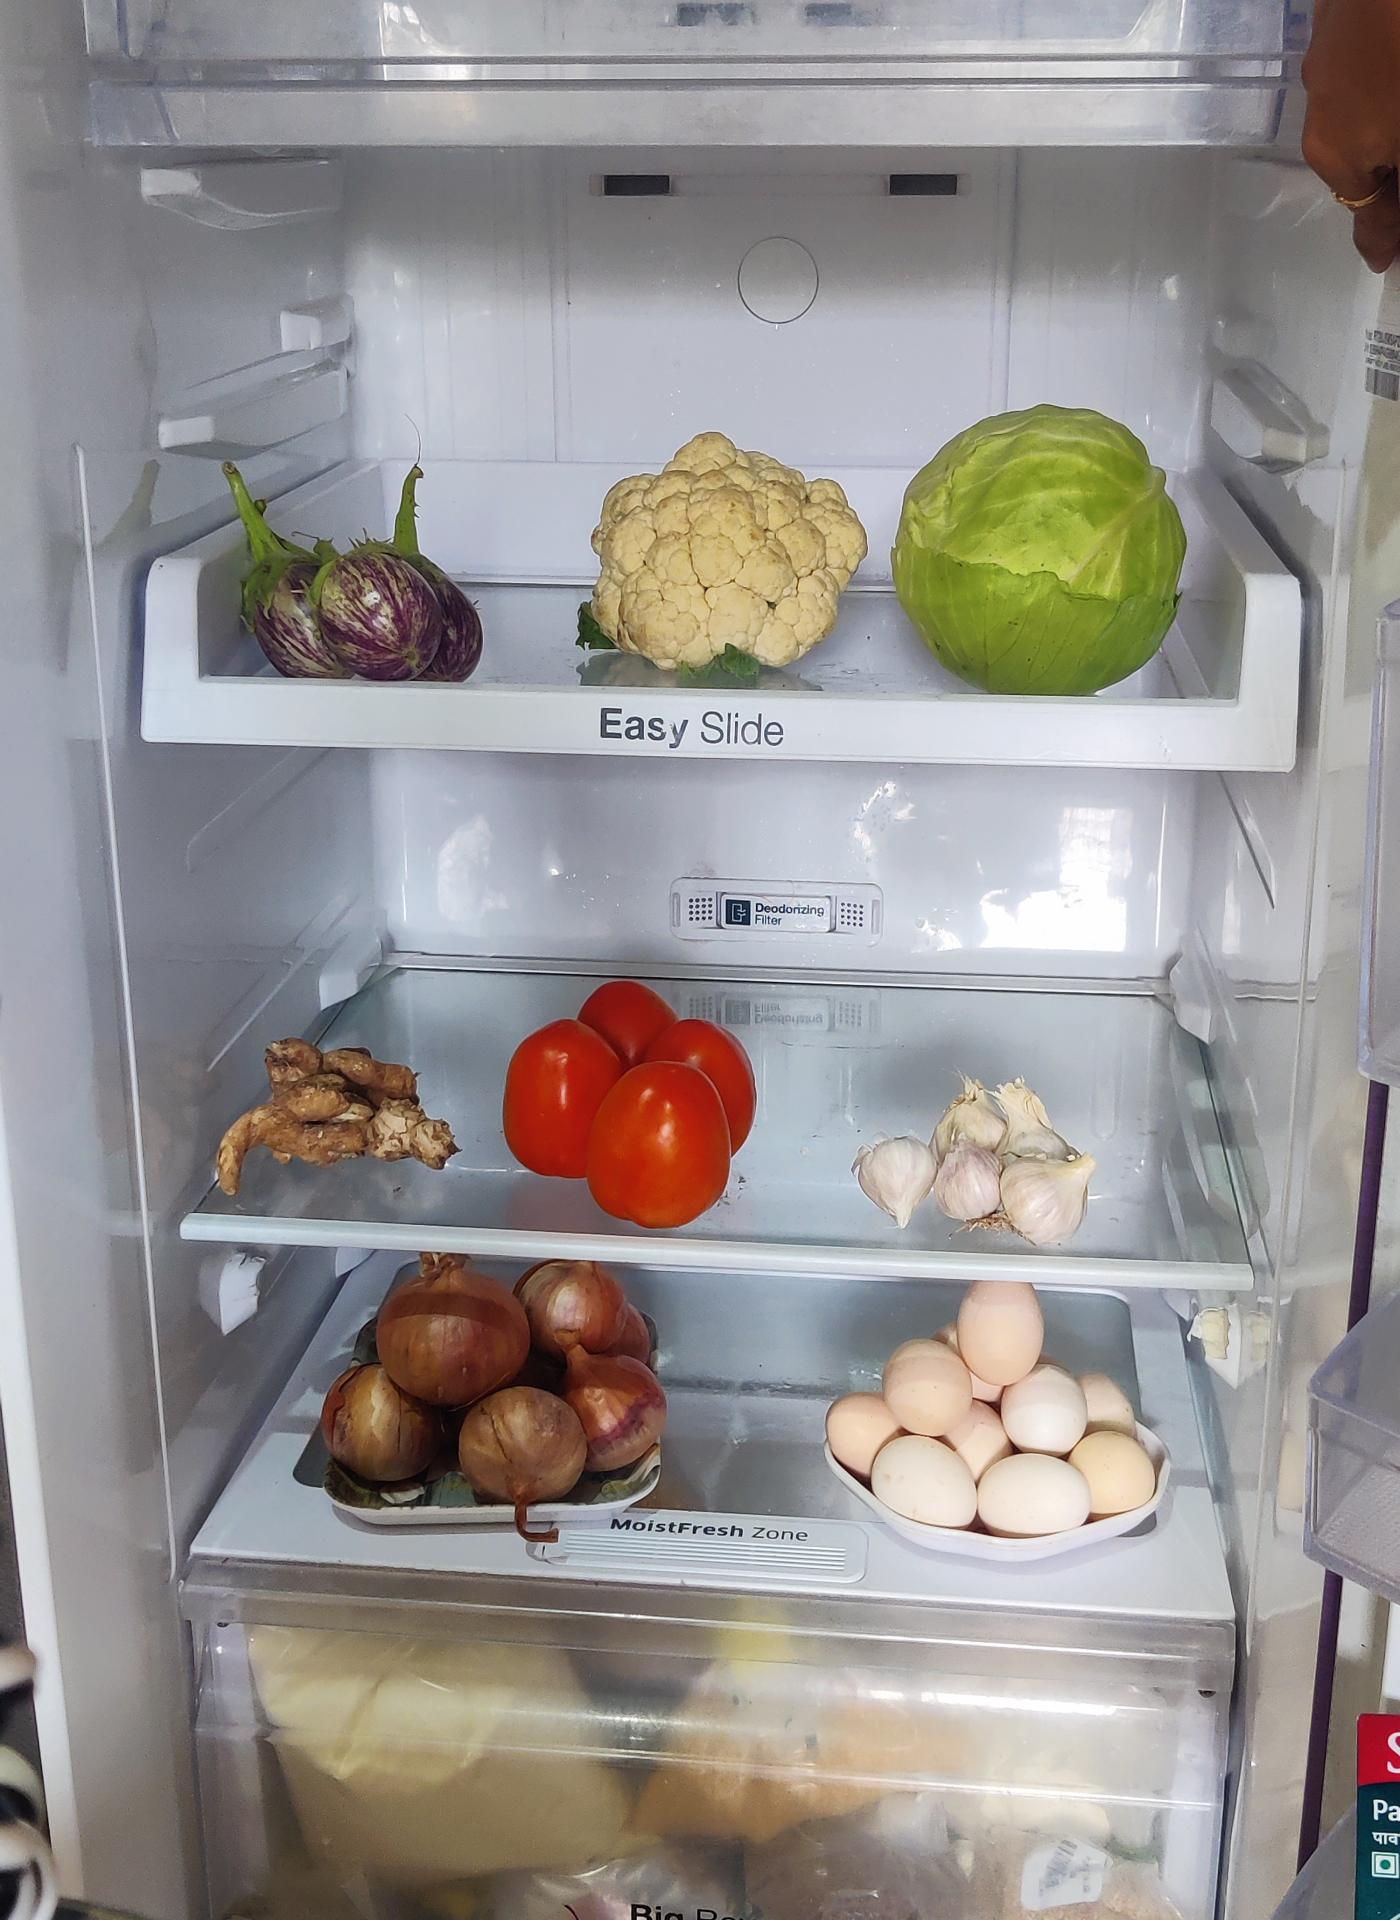brinjal: (225, 461, 492, 678)
cabbage: (895, 411, 1187, 704)
cauliflower: (592, 437, 871, 675)
egg: (822, 1276, 1160, 1523)
garlic: (856, 1066, 1094, 1242)
ginger: (210, 1039, 462, 1179)
onion: (319, 1266, 663, 1510)
tomato: (504, 970, 759, 1218)
